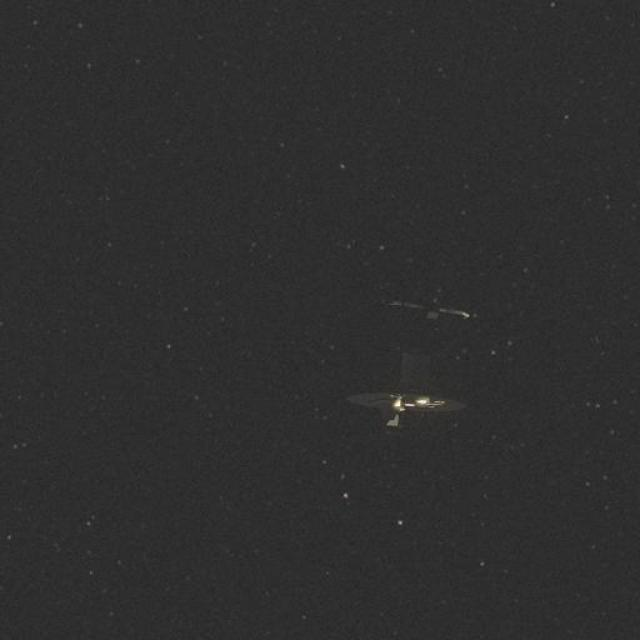proba_3_ocs: (336, 266, 492, 454)
